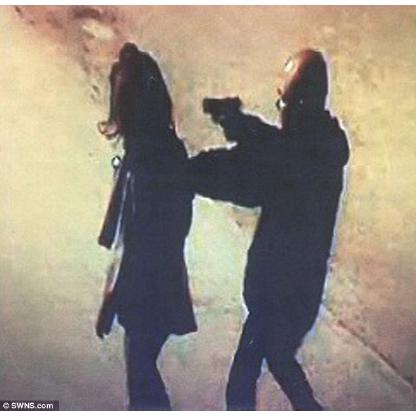gun: (196, 89, 244, 141)
